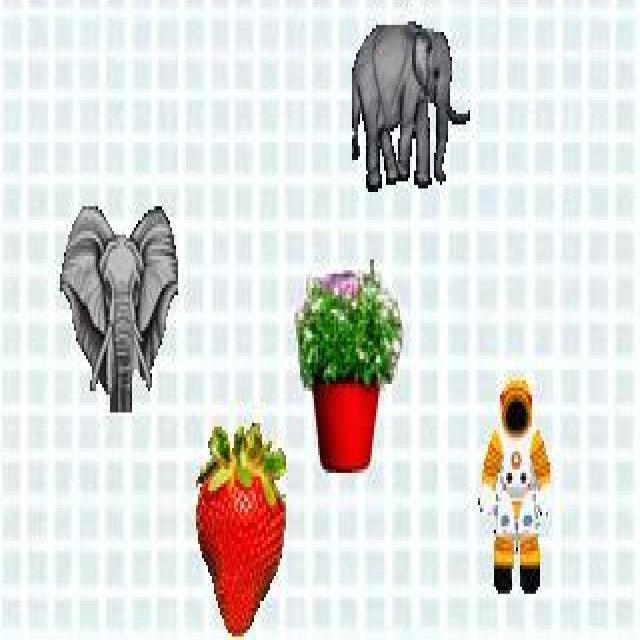Other Objects: (294, 256, 402, 474), (478, 373, 552, 595)
